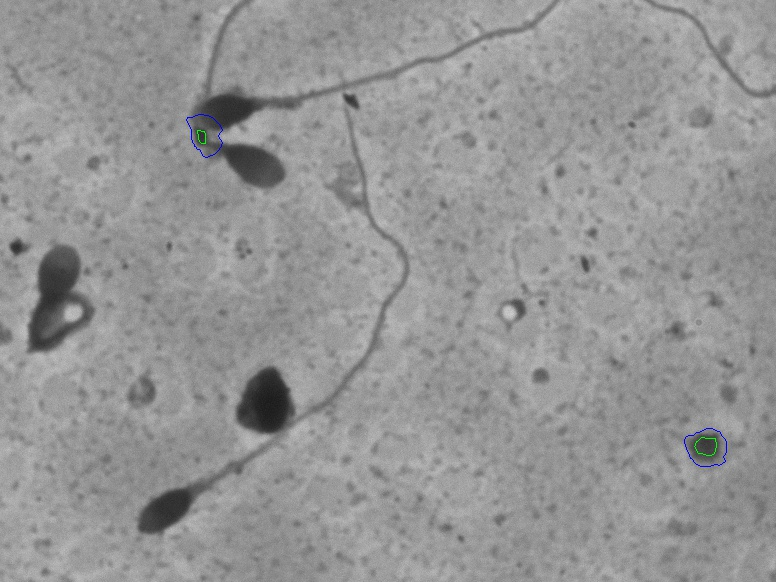Abnormal: (13, 230, 99, 371)
Normal: (109, 95, 444, 565)
